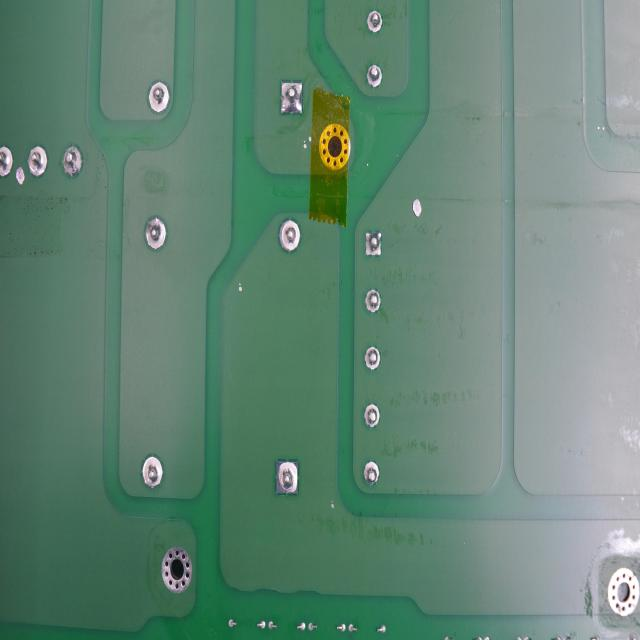spillover: (410, 193, 424, 218), (300, 132, 310, 153), (237, 281, 244, 295)
